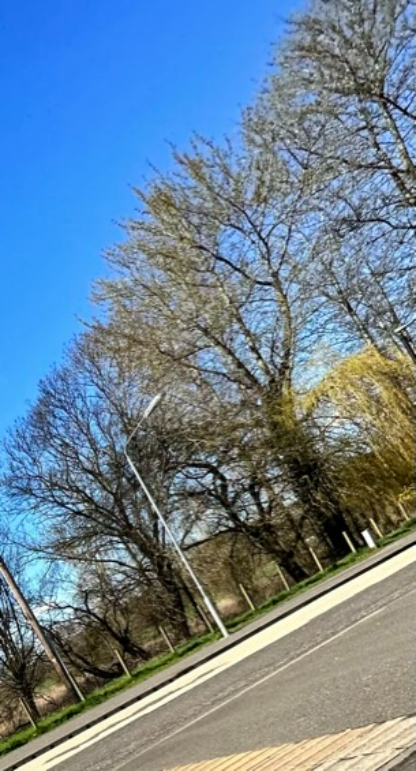tree: (92, 153, 368, 546), (14, 378, 193, 630), (250, 0, 416, 207)
